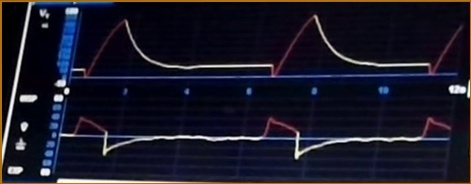Flow: (66, 110, 450, 168)
Leakage Volume: (76, 14, 462, 83)
